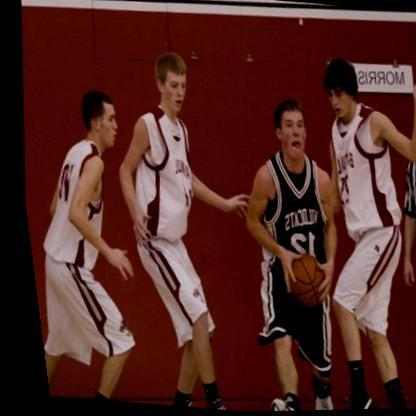basketball: (274, 250, 323, 312)
